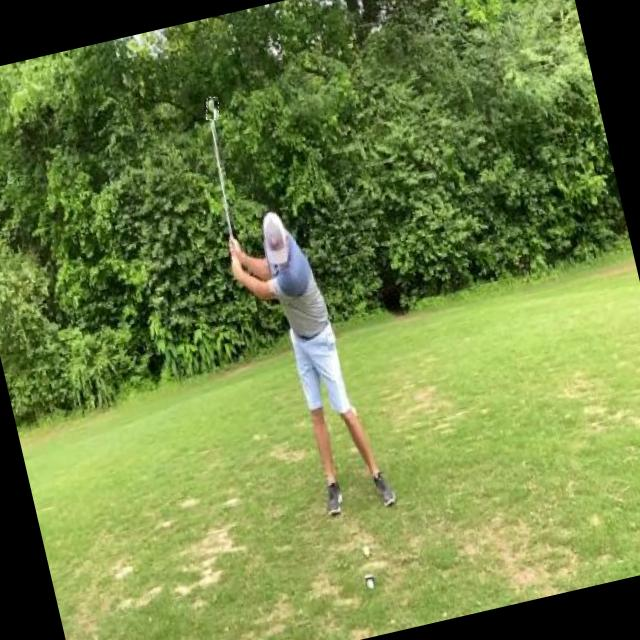club head: (203, 95, 221, 121)
